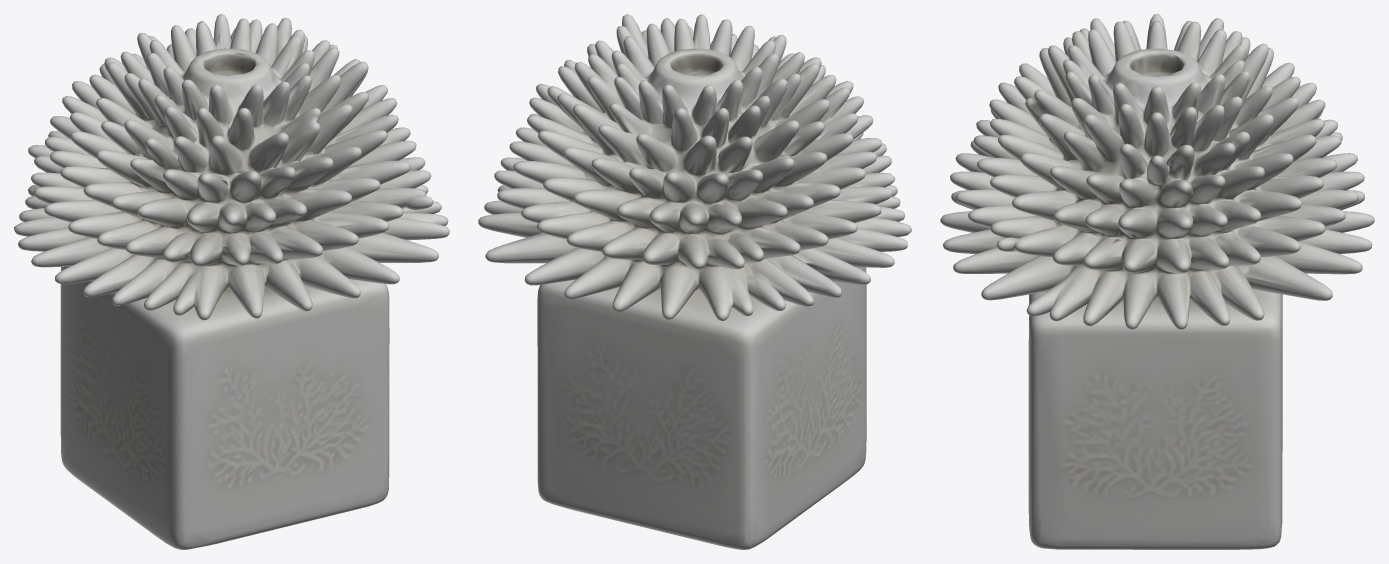
File: lady-capri.glb
The picture shows the model from 3 angles, left to right: view 1: azimuth 30°, elevation 25°; view 2: azimuth 150°, elevation 25°; view 3: azimuth 270°, elevation 25°; orthographic projection. The views are drawn at different scales.
Visible parts, largest first — view 1: material; view 2: material; view 3: material.
Boxes of the visible parts, x1=… form: material: x1=14, y1=14, x2=449, y2=549; material: x1=478, y1=14, x2=911, y2=549; material: x1=940, y1=14, x2=1374, y2=549.
Bounding box in the file's own units: 0.8936 × 0.9984 × 0.871.
Materials: 1 (1 with a texture image).
